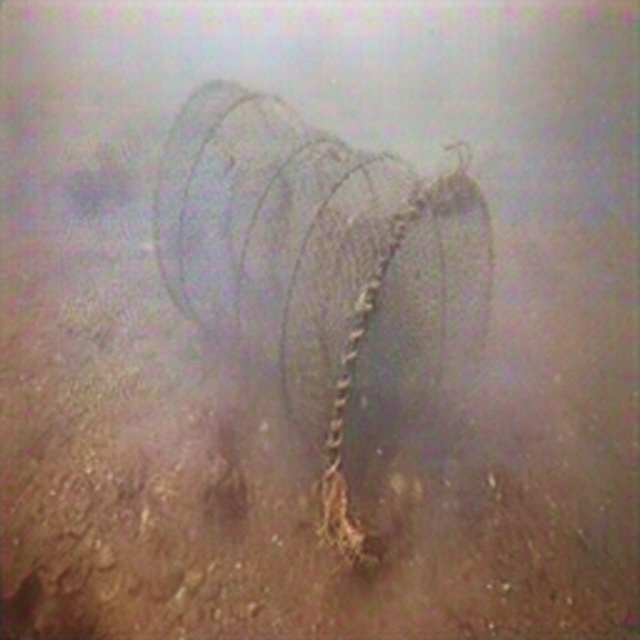mine: (152, 78, 494, 572)
